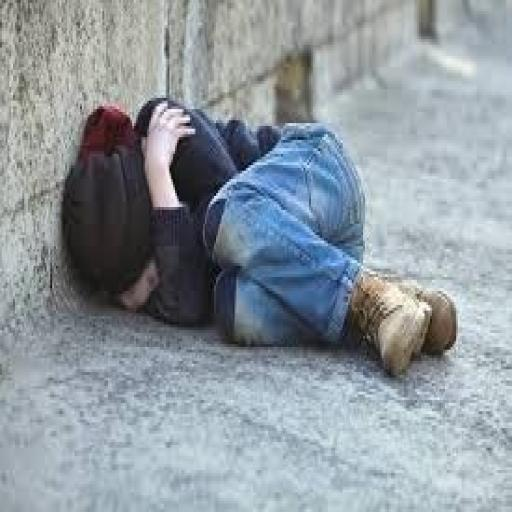sleeping: (59, 90, 460, 378)
